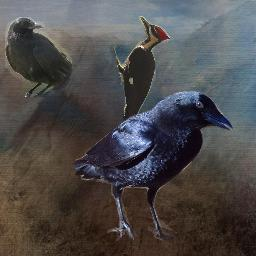Crow: (75, 91, 233, 243), (5, 17, 72, 97)
Woodpecker: (109, 16, 170, 150)
